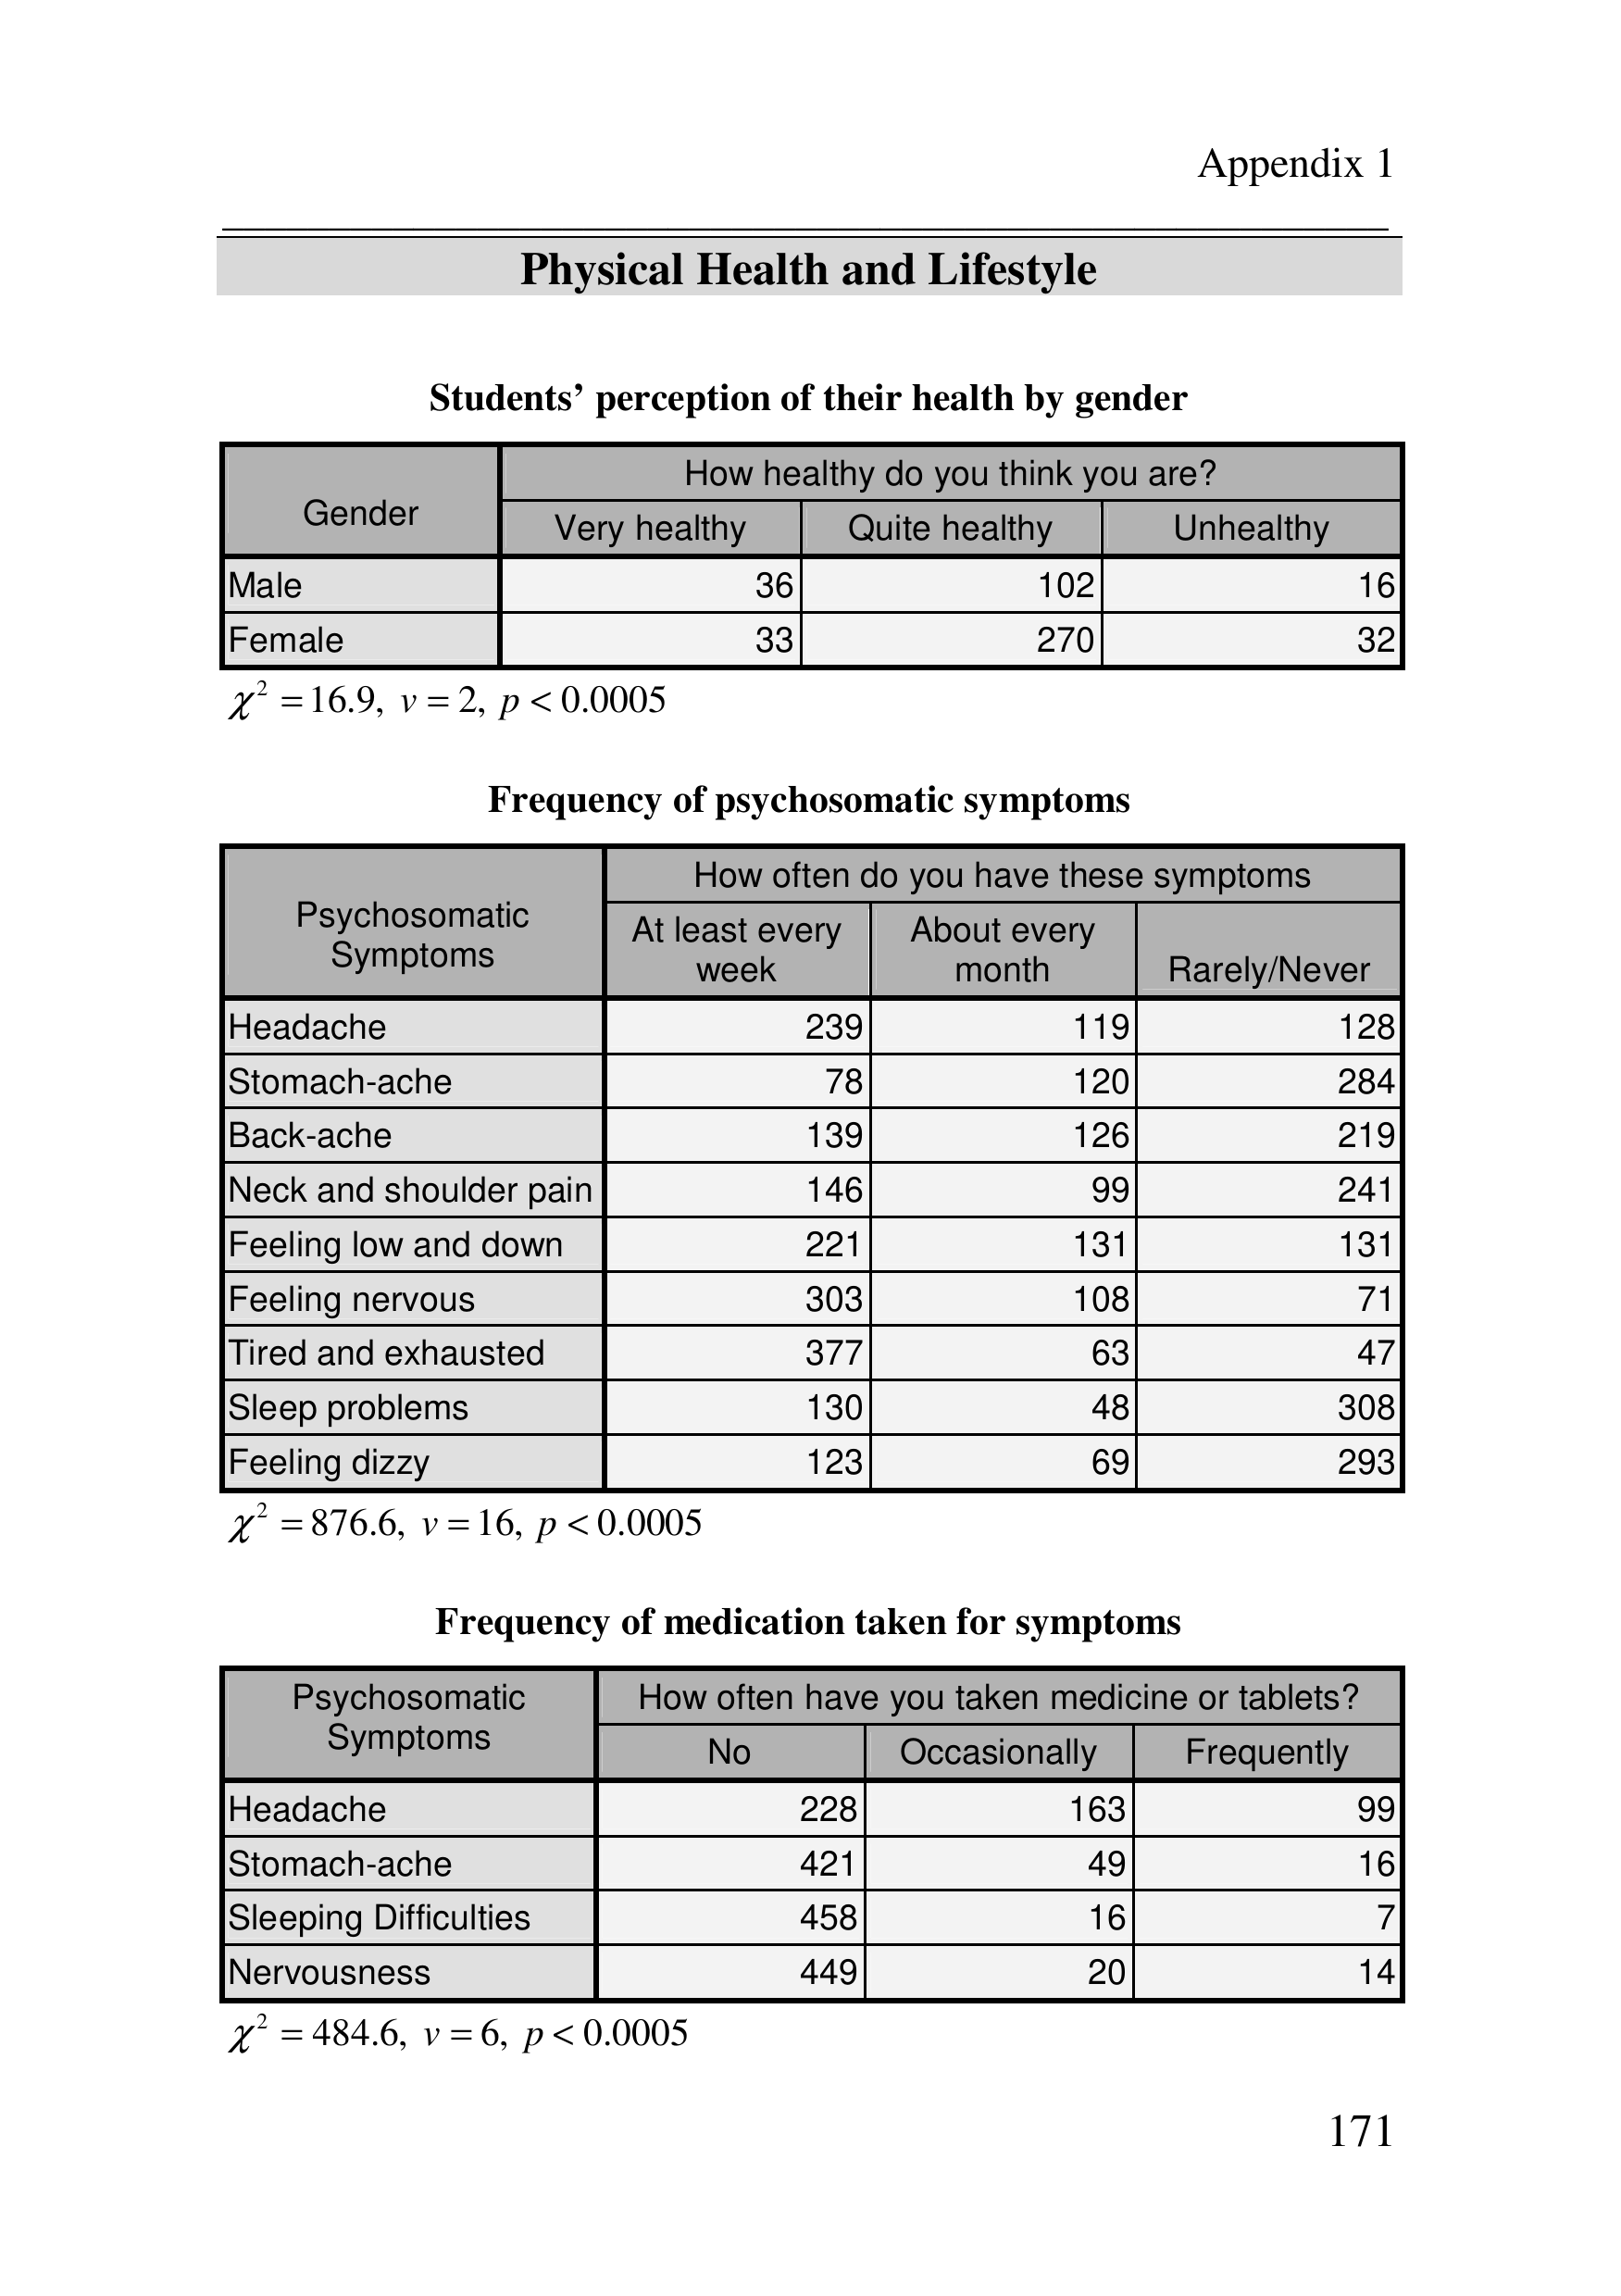table: (214, 840, 1405, 1493), (216, 1663, 1405, 2005), (219, 442, 1405, 672)
